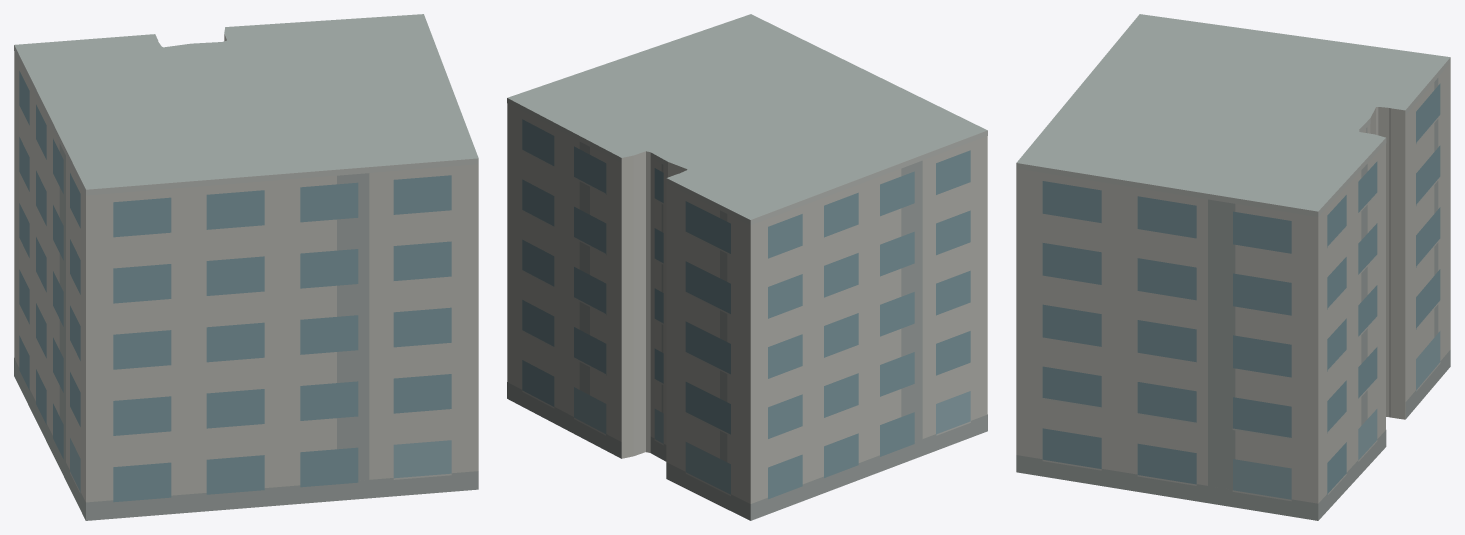
The model's file is survey-upis-32889826.glb.
3 renders of one model, left to right at view 1: azimuth 30°, elevation 25°; view 2: azimuth 150°, elevation 25°; view 3: azimuth 270°, elevation 25°, orthographic. The views are drawn at different scales.
Visible parts, largest first — view 1: survey-upis-32889826.tmp; view 2: survey-upis-32889826.tmp; view 3: survey-upis-32889826.tmp.
Part boxes in pixels (left/top/right/bottom): survey-upis-32889826.tmp: left=14, top=14, right=478, bottom=520; survey-upis-32889826.tmp: left=507, top=14, right=987, bottom=520; survey-upis-32889826.tmp: left=1016, top=14, right=1450, bottom=520.
Size of the model in its own units: 18.37 by 13.4 by 17.06.
